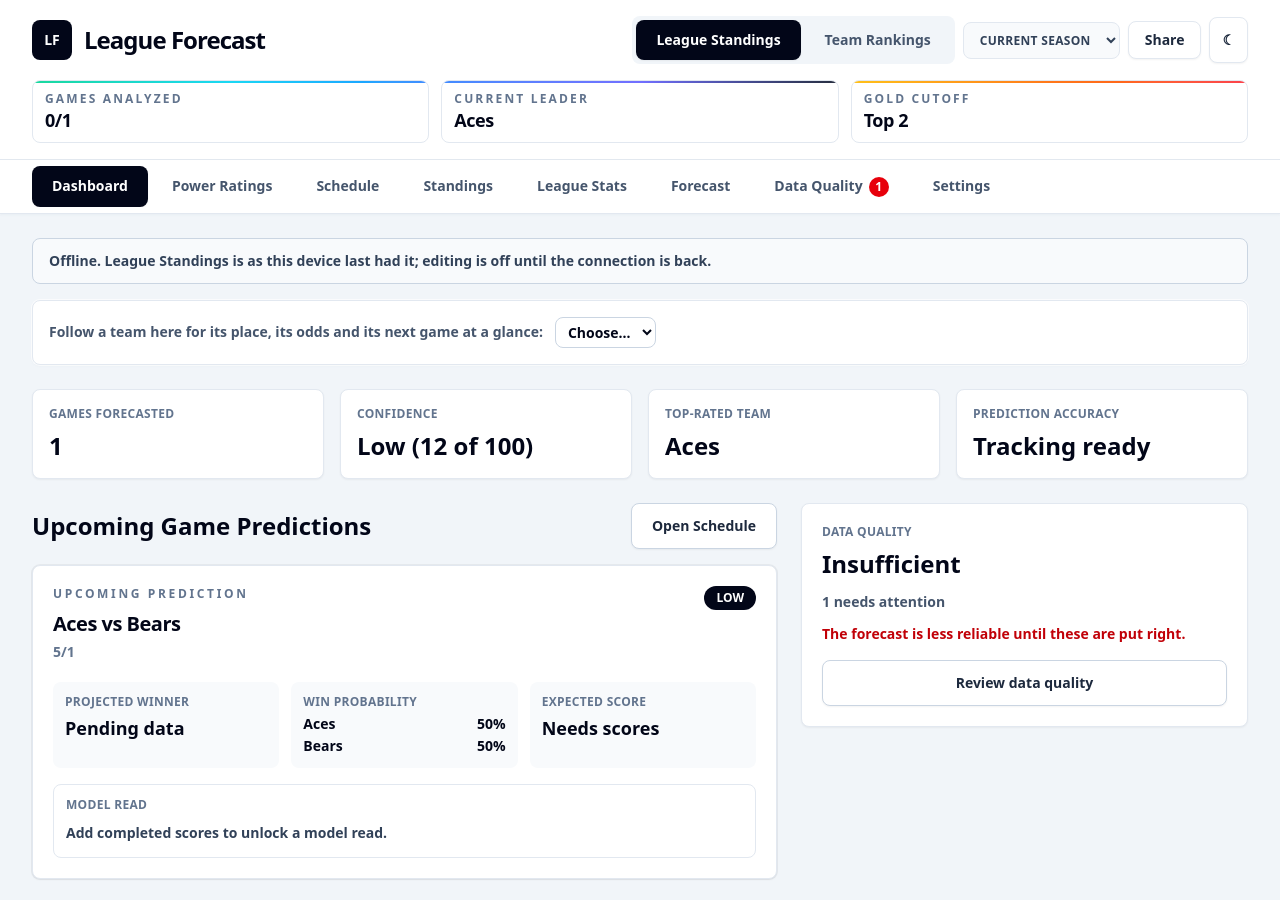
Scenario: League Standings kept live, on the page › is read-only while offline, and says so
Click the tab "Schedule" at (348, 186), box [296, 166, 399, 206]
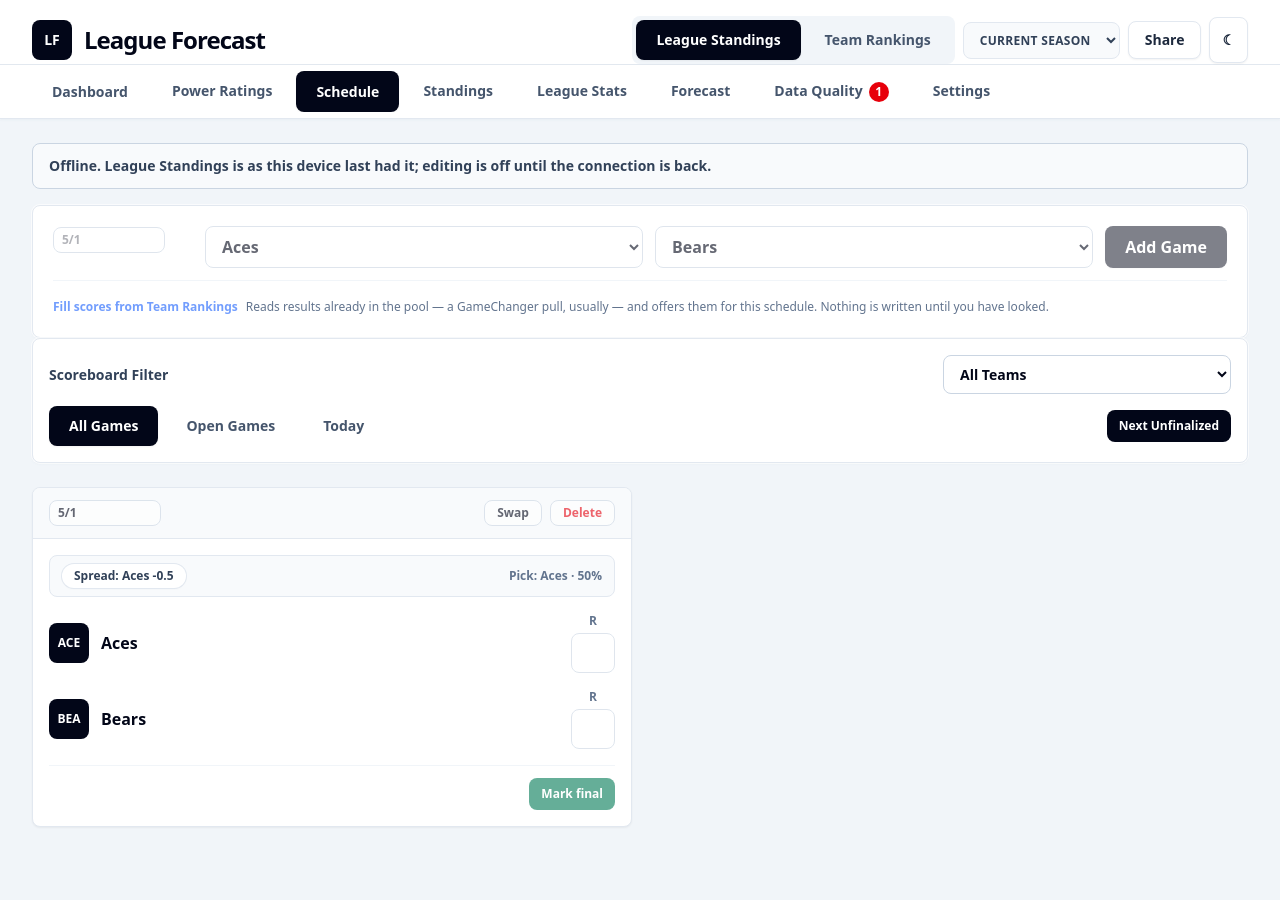
Expected: the field named "Aces Runs" is disabled, [571, 633, 615, 673]
Now the button with aria-label "Mark game as final" is disabled, box [529, 778, 615, 810]
